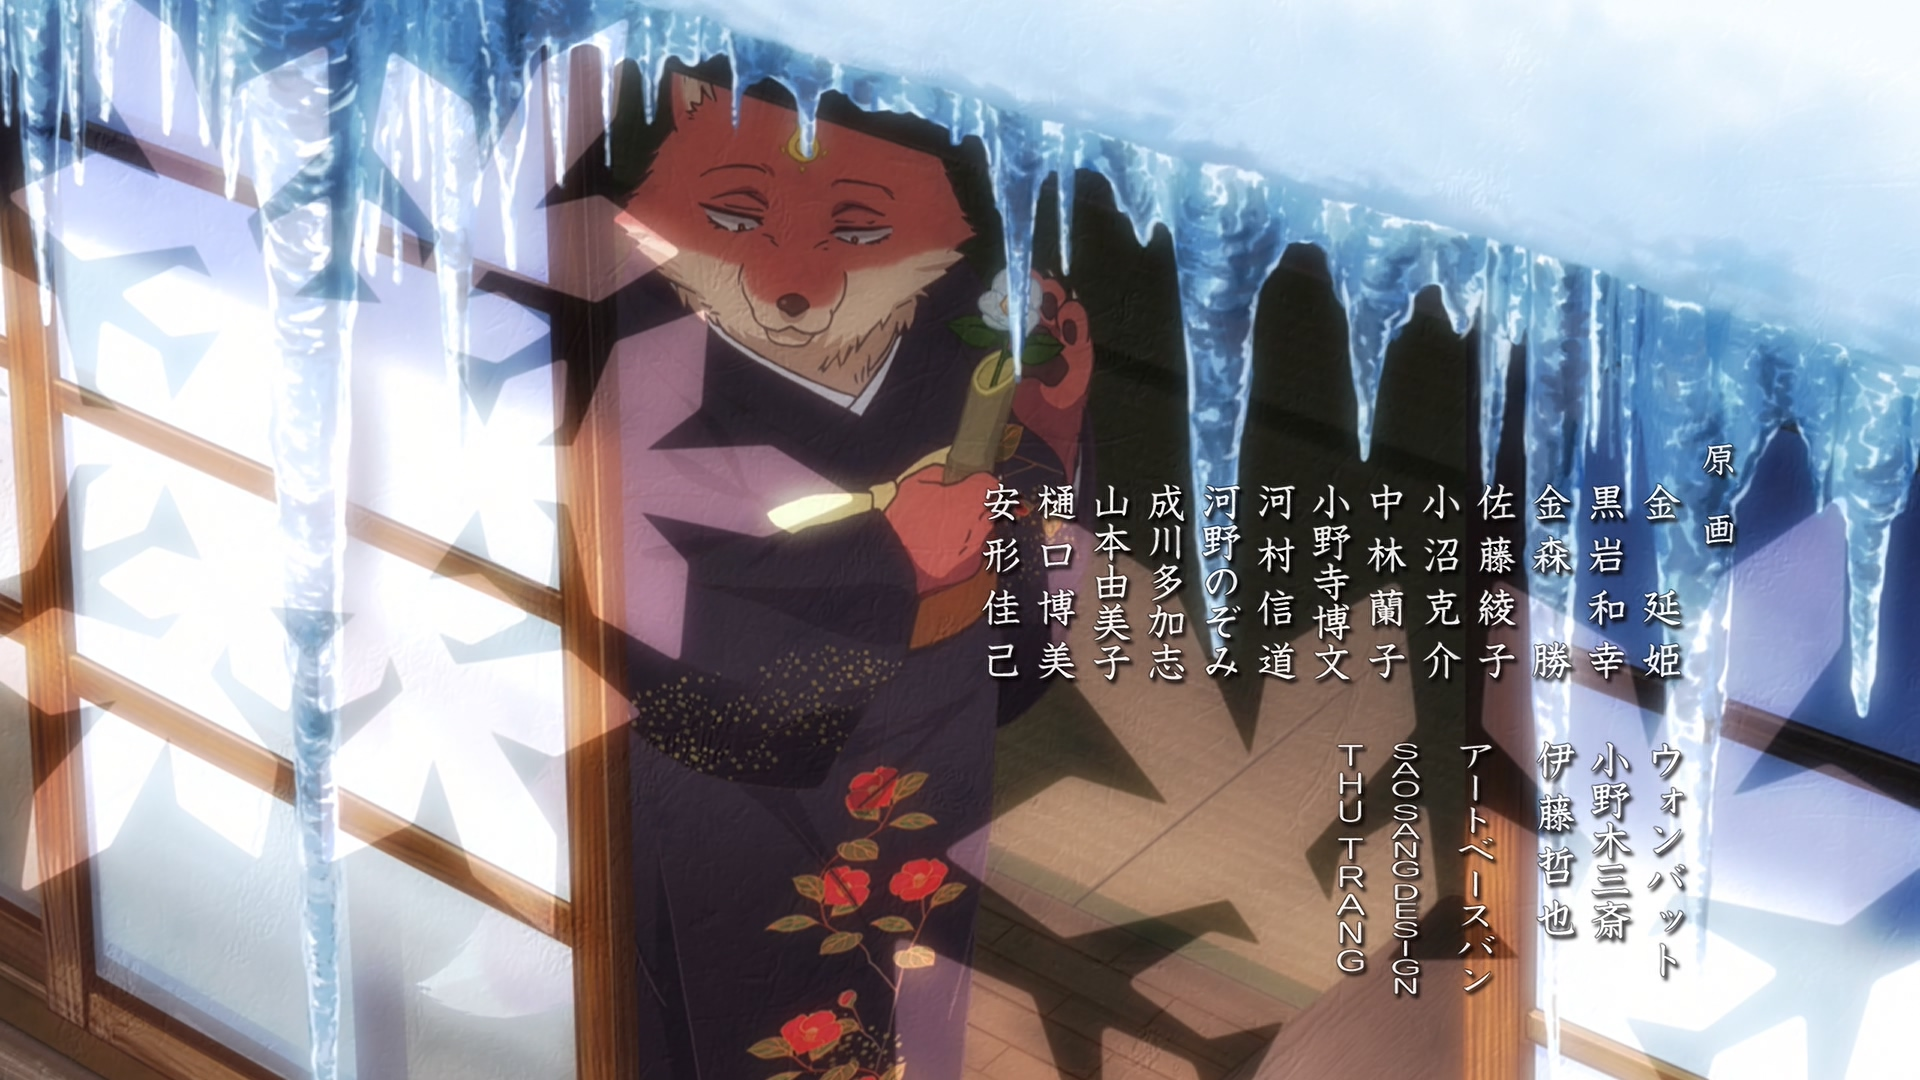椿: (616, 74, 1092, 1080)
